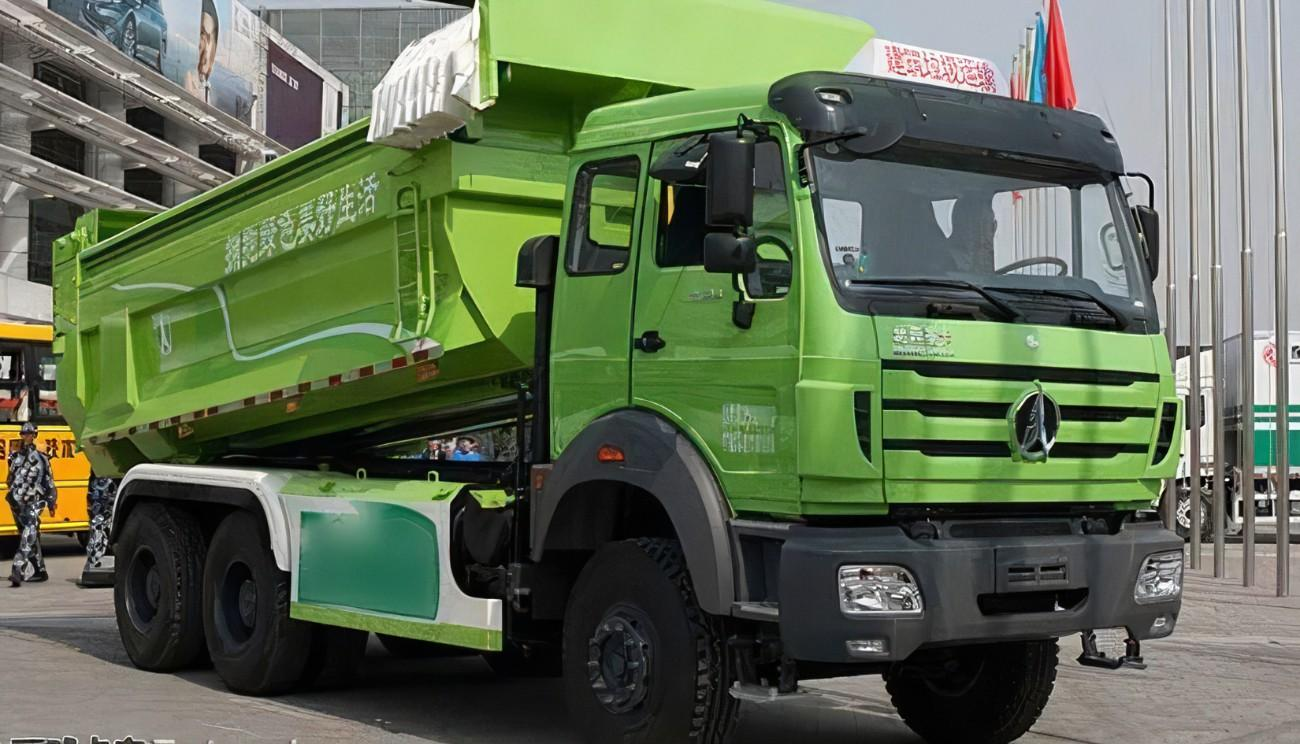truck: (38, 1, 1208, 725)
